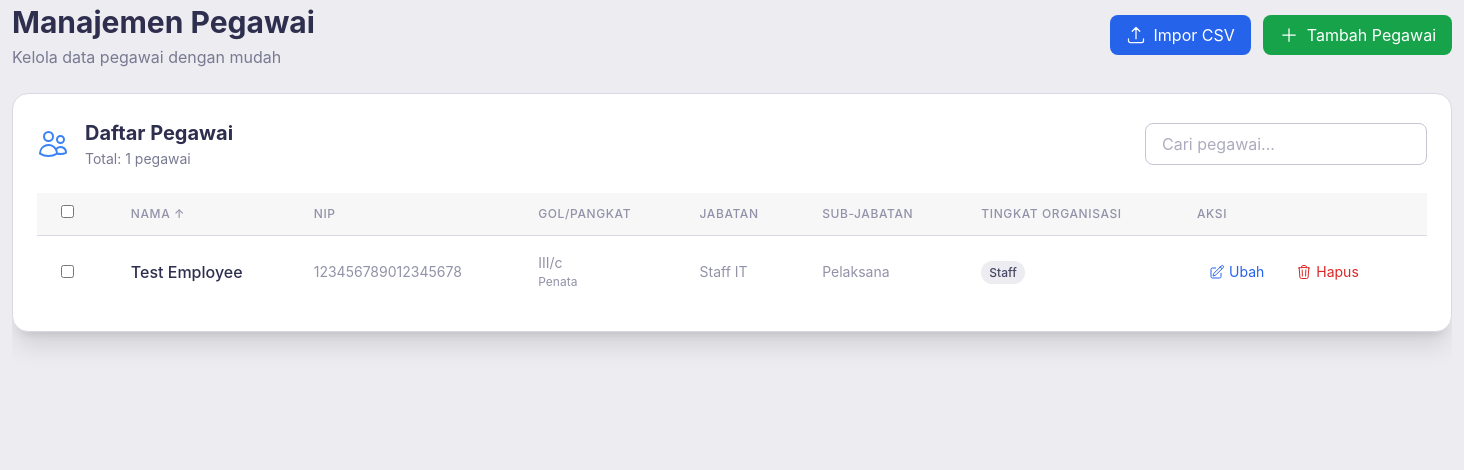
Scenario: EmployeeManagement component › surfaces an error message when deletion fails
What coordinates should you click on to do the following:
click the button "Hapus"
I would click on:
 (1328, 272)
Its box is [1284,261,1371,282].
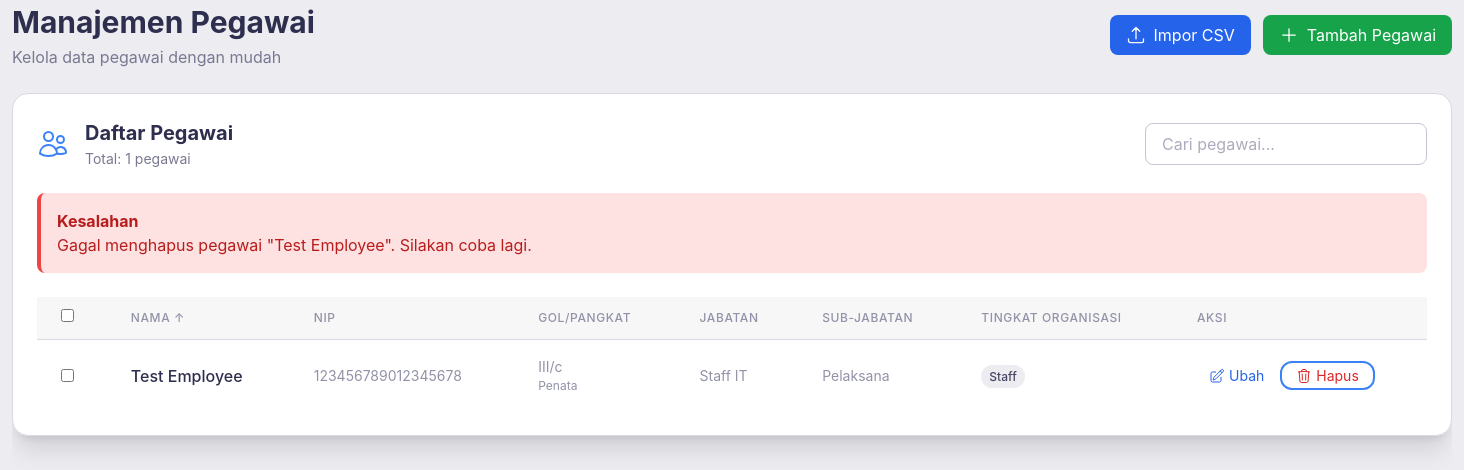
expect the text "Gagal menghapus pegawai \"Test Employee\". Silakan coba lagi." is shown: met, box [57,235,532,255]
